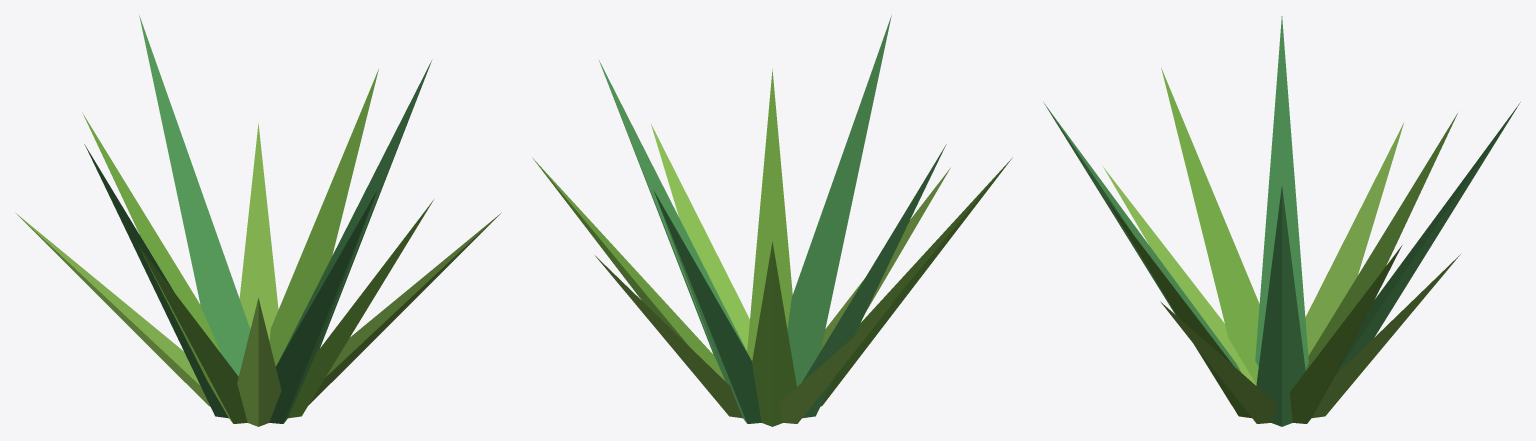
The model's file is terrarium_fern.glb.
3 renders of one model, left to right at view 1: azimuth 30°, elevation 25°; view 2: azimuth 150°, elevation 25°; view 3: azimuth 270°, elevation 25°, orthographic.
Parts seen in each view (by area): view 1: terrarium_fern; view 2: terrarium_fern; view 3: terrarium_fern.
Boxes of the visible parts, <box> form: terrarium_fern: <box>15,15,501,426</box>; terrarium_fern: <box>532,15,1012,426</box>; terrarium_fern: <box>1043,16,1520,426</box>.
Bounding box in the file's own units: 0.7203 × 0.5742 × 0.814.
1 material, 1 textured.
